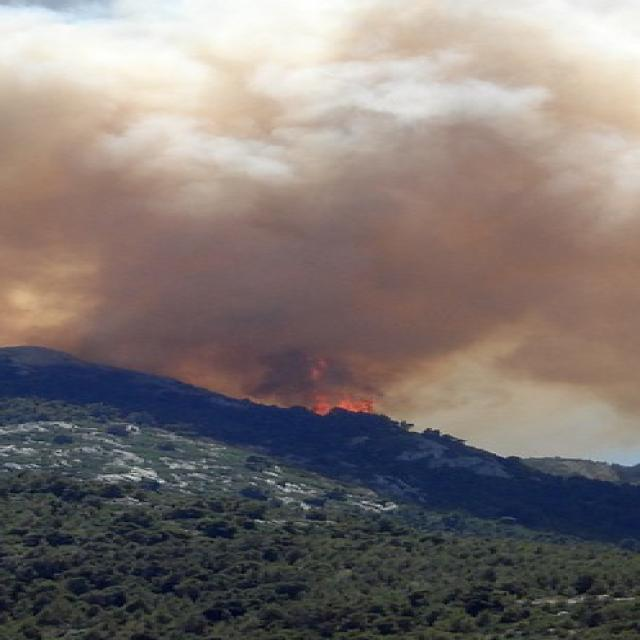Fire: (301, 362, 380, 418)
Smoke: (2, 2, 633, 355)
